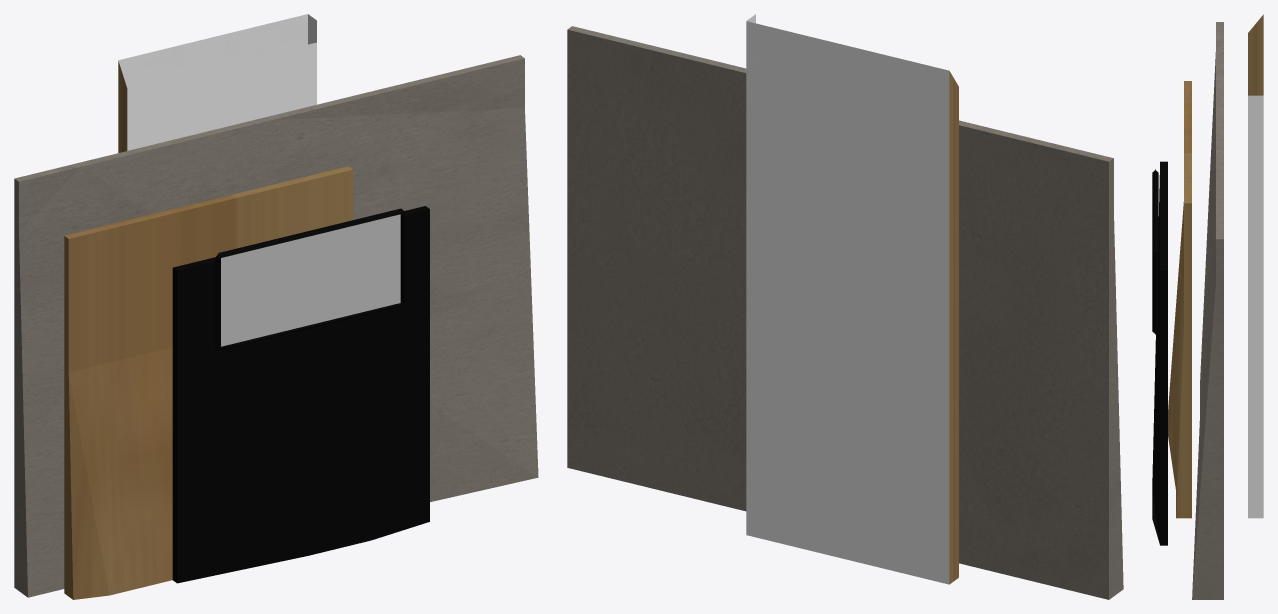
Rendered from ParedTraseraS2.obj.
3 renders of one model, left to right at view 1: azimuth 30°, elevation 25°; view 2: azimuth 150°, elevation 25°; view 3: azimuth 270°, elevation 25°, orthographic. The views are drawn at different scales.
Visible parts, largest first — view 1: ParedTraseraS2; view 2: ParedTraseraS2; view 3: ParedTraseraS2.
Boxes of the visible parts, x1,y1,x2,y2 form: ParedTraseraS2: [14, 14, 538, 599]; ParedTraseraS2: [567, 14, 1123, 599]; ParedTraseraS2: [1152, 14, 1263, 599].
Bounding box in the file's own units: 16.02 × 14.53 × 3.48.
